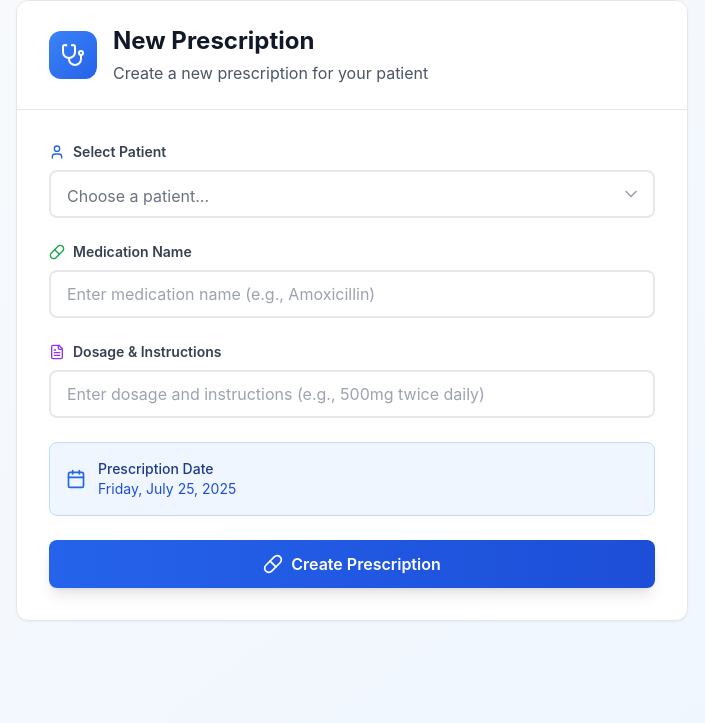
Test: NewPrescriptionForm Component › displays validation errors for empty fields
Click the button "Create Prescription" at (352, 564), box x1=49 y1=540 x2=655 y2=588
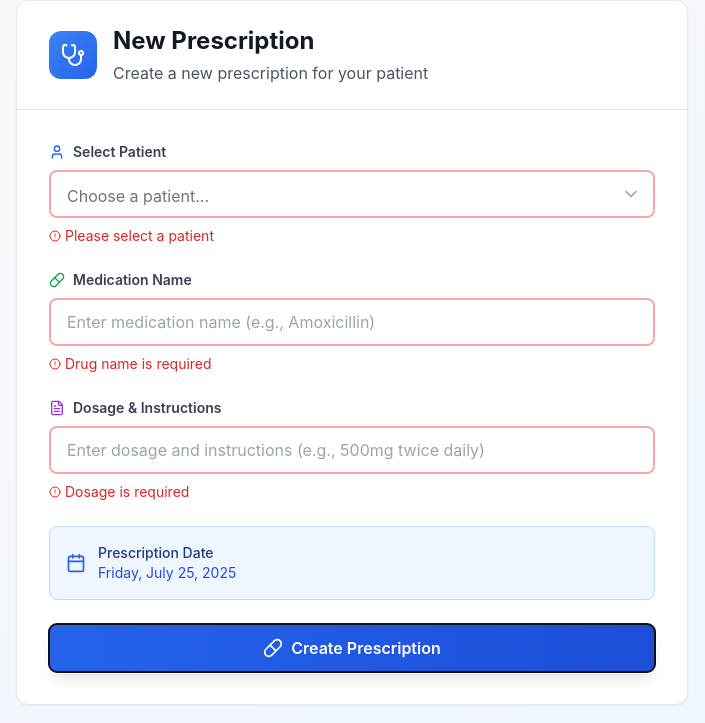
Result: the text "Please select a patient" is shown at x1=49 y1=227 x2=214 y2=244
Result: the text "Drug name is required" is shown at x1=49 y1=355 x2=212 y2=372
Result: the text "Dosage is required" is shown at x1=49 y1=483 x2=189 y2=500
